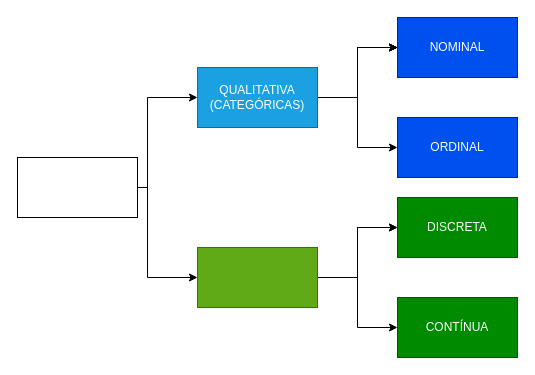
Some shapes in this 535 by 375 pixel diagram are drawn without their labels. Each missing label, with the centre of its shape:
QUANTITATIVA (NUMÉRICAS): point (257, 277)
VARIÁVEL: point (77, 187)
